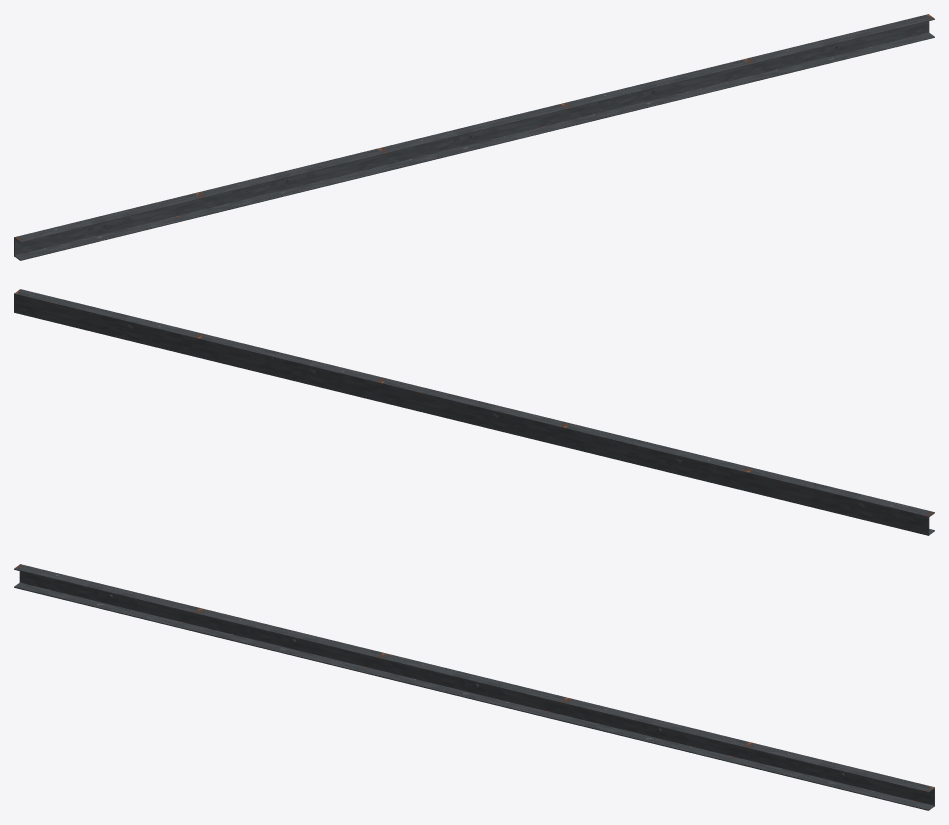
The model's file is gk_channel.glb.
The picture shows the model from 3 angles, top to bottom: view 1: azimuth 30°, elevation 25°; view 2: azimuth 150°, elevation 25°; view 3: azimuth 330°, elevation 25°; orthographic projection.
Parts seen in each view (by area): view 1: p; view 2: p; view 3: p.
Boxes of the visible parts, x1,y1,x2,y2 form: p: (14,14,934,260); p: (14,289,934,535); p: (14,564,934,810).
Size of the model in its own units: 5 by 0.1 by 0.06.
1 material, 1 textured.
